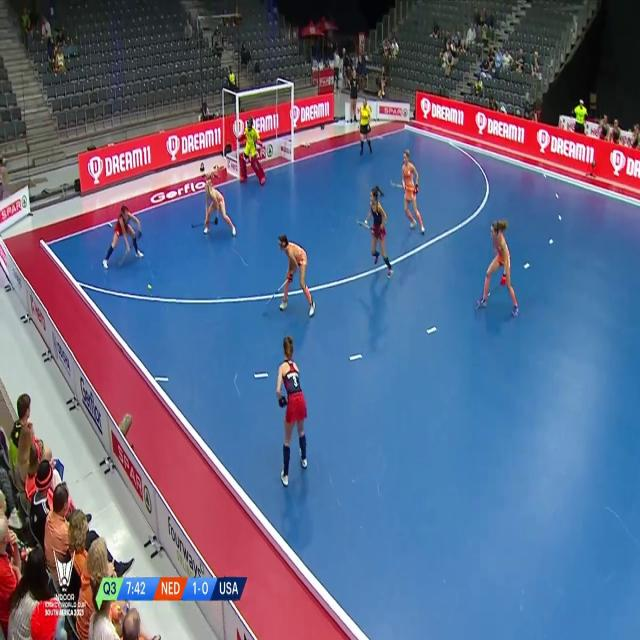ball: (142, 277, 153, 294)
